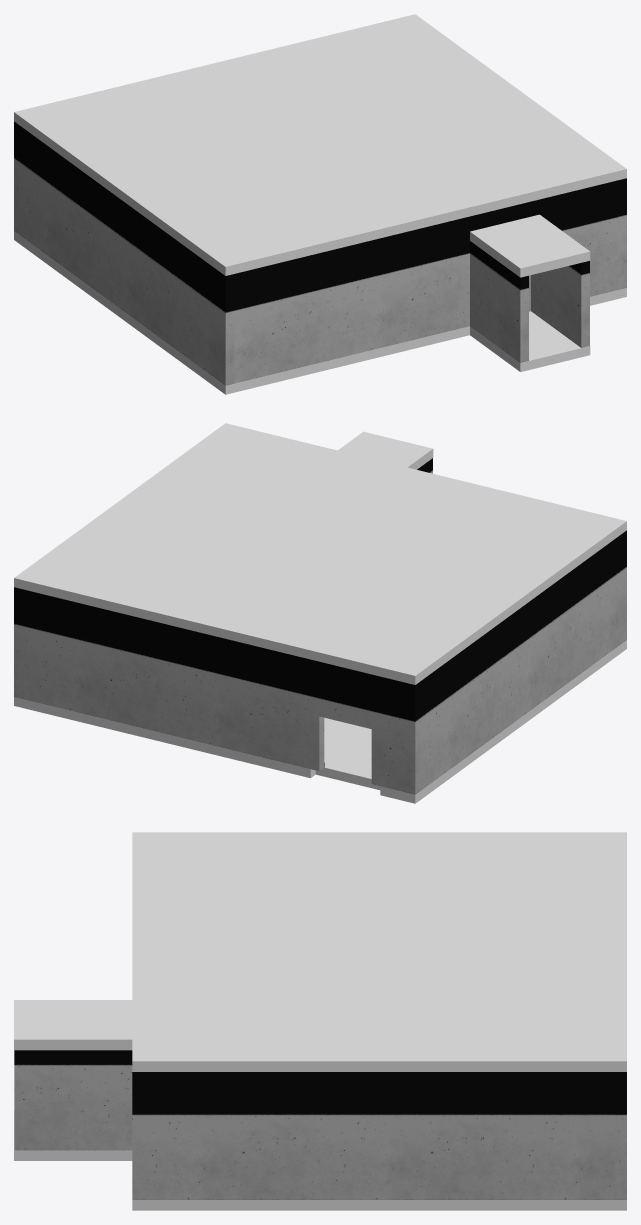
The model's file is SM_TVRoom_01.fbx.
3 renders of one model, top to bottom at view 1: azimuth 30°, elevation 25°; view 2: azimuth 150°, elevation 25°; view 3: azimuth 270°, elevation 25°, orthographic. The views are drawn at different scales.
Parts seen in each view (by area): view 1: SM_TVRoom_Roof_01, SM_TVRoom_Wall_03, SM_TVRoom_Wall_06, SM_TVRoom_Floor_01, SM_TVRoom_Wall_01, SM_TVRoom_Roof_02, SM_TVRoom_Wall_00, SM_TVRoom_Wall_04, SM_TVRoom_Wall_05; view 2: SM_TVRoom_Roof_01, SM_TVRoom_Wall_05, SM_TVRoom_Wall_06, SM_TVRoom_Floor_01, SM_TVRoom_Roof_02; view 3: SM_TVRoom_Roof_01, SM_TVRoom_Wall_04, SM_TVRoom_Wall_00, SM_TVRoom_Floor_01, SM_TVRoom_Roof_02, SM_TVRoom_Wall_05.
Part boxes in pixels (x1,y1,x2,y2): SM_TVRoom_Roof_01: [14, 14, 626, 275]; SM_TVRoom_Wall_03: [234, 180, 618, 383]; SM_TVRoom_Wall_06: [19, 125, 234, 385]; SM_TVRoom_Floor_01: [14, 231, 626, 394]; SM_TVRoom_Wall_01: [470, 241, 528, 362]; SM_TVRoom_Roof_02: [470, 214, 590, 277]; SM_TVRoom_Wall_00: [531, 261, 589, 347]; SM_TVRoom_Wall_04: [618, 178, 626, 289]; SM_TVRoom_Wall_05: [14, 121, 18, 233]; SM_TVRoom_Roof_01: [14, 423, 626, 684]; SM_TVRoom_Wall_05: [14, 587, 420, 794]; SM_TVRoom_Wall_06: [420, 530, 626, 790]; SM_TVRoom_Floor_01: [14, 640, 626, 803]; SM_TVRoom_Roof_02: [338, 431, 433, 469]; SM_TVRoom_Roof_01: [132, 832, 626, 1071]; SM_TVRoom_Wall_04: [132, 1072, 615, 1199]; SM_TVRoom_Wall_00: [14, 1050, 132, 1150]; SM_TVRoom_Floor_01: [14, 1110, 626, 1210]; SM_TVRoom_Roof_02: [14, 1000, 132, 1050]; SM_TVRoom_Wall_05: [615, 1072, 626, 1199].
Size of the model in its own units: 1150 by 350 by 1301.
